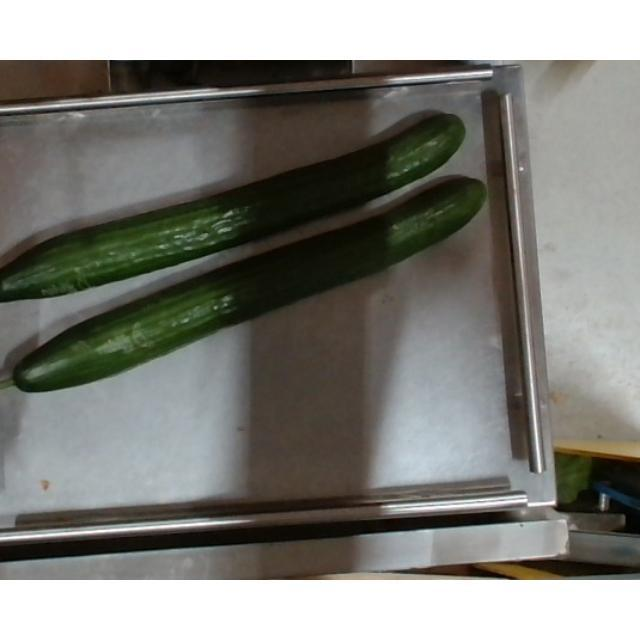cucumber: (0, 177, 484, 393), (1, 114, 466, 306)
